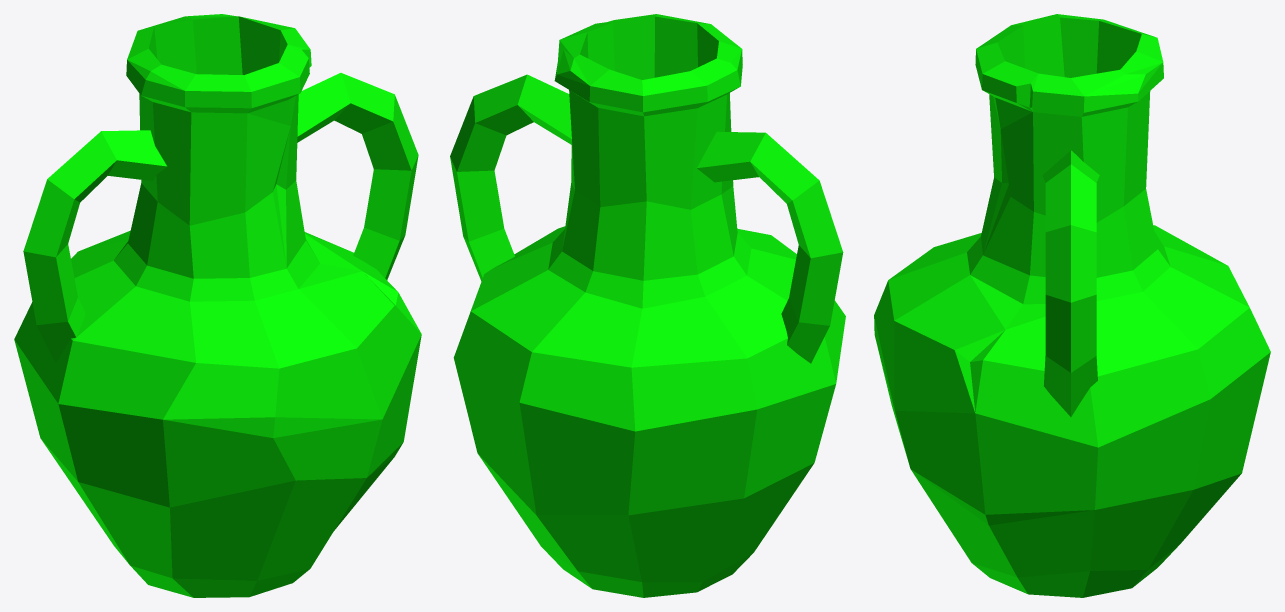
Rendered from SM_Vase_Ceramic_Small_B_Fantasy.fbx.
3 views of the same model, side by side, from view 1: azimuth 30°, elevation 25°; view 2: azimuth 150°, elevation 25°; view 3: azimuth 270°, elevation 25° (orthographic).
Visible parts, largest first — view 1: vase-ceramic-small-b-fantasy; view 2: vase-ceramic-small-b-fantasy; view 3: vase-ceramic-small-b-fantasy.
Boxes of the visible parts, x1=… form: vase-ceramic-small-b-fantasy: x1=14, y1=14, x2=421, y2=597; vase-ceramic-small-b-fantasy: x1=450, y1=14, x2=845, y2=597; vase-ceramic-small-b-fantasy: x1=874, y1=14, x2=1270, y2=597.
Size of the model in its own units: 0.4125 by 0.5149 by 0.3605.
